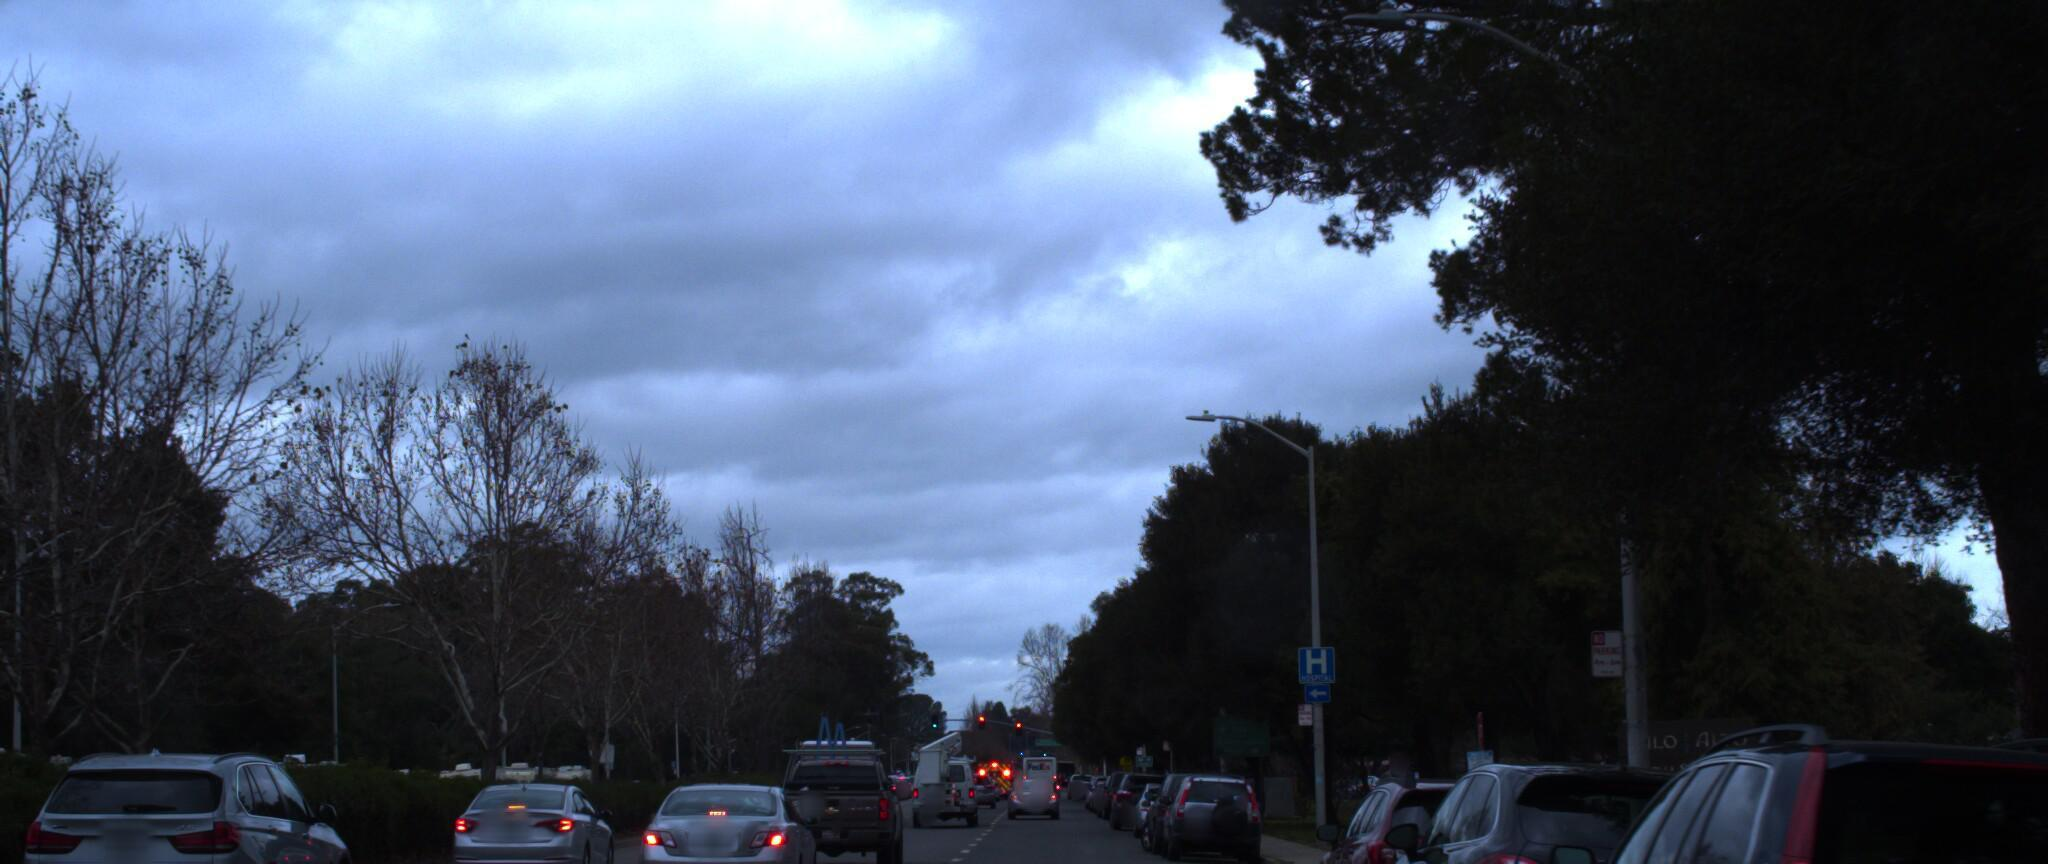car: (1489, 676, 2048, 864), (1348, 737, 1826, 864), (3, 733, 370, 864), (1294, 750, 1603, 864), (1899, 645, 2048, 864), (620, 762, 828, 864), (765, 727, 906, 857), (449, 774, 626, 864), (1149, 750, 1256, 844)
